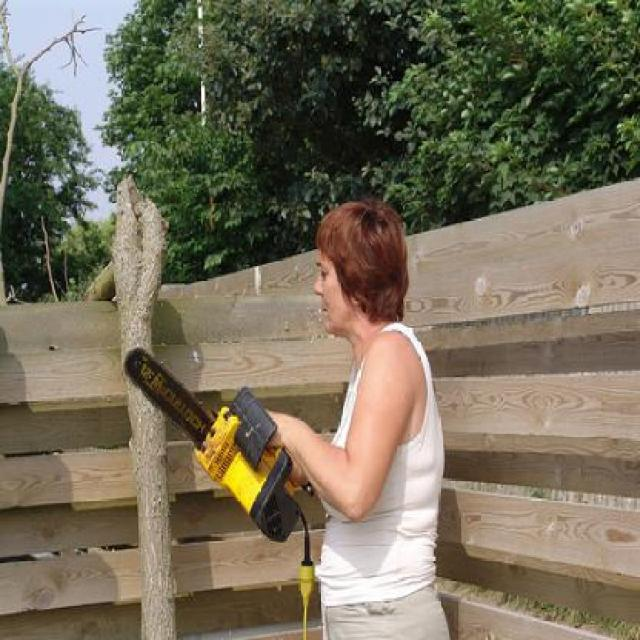Chainsaw: (120, 345, 320, 552)
